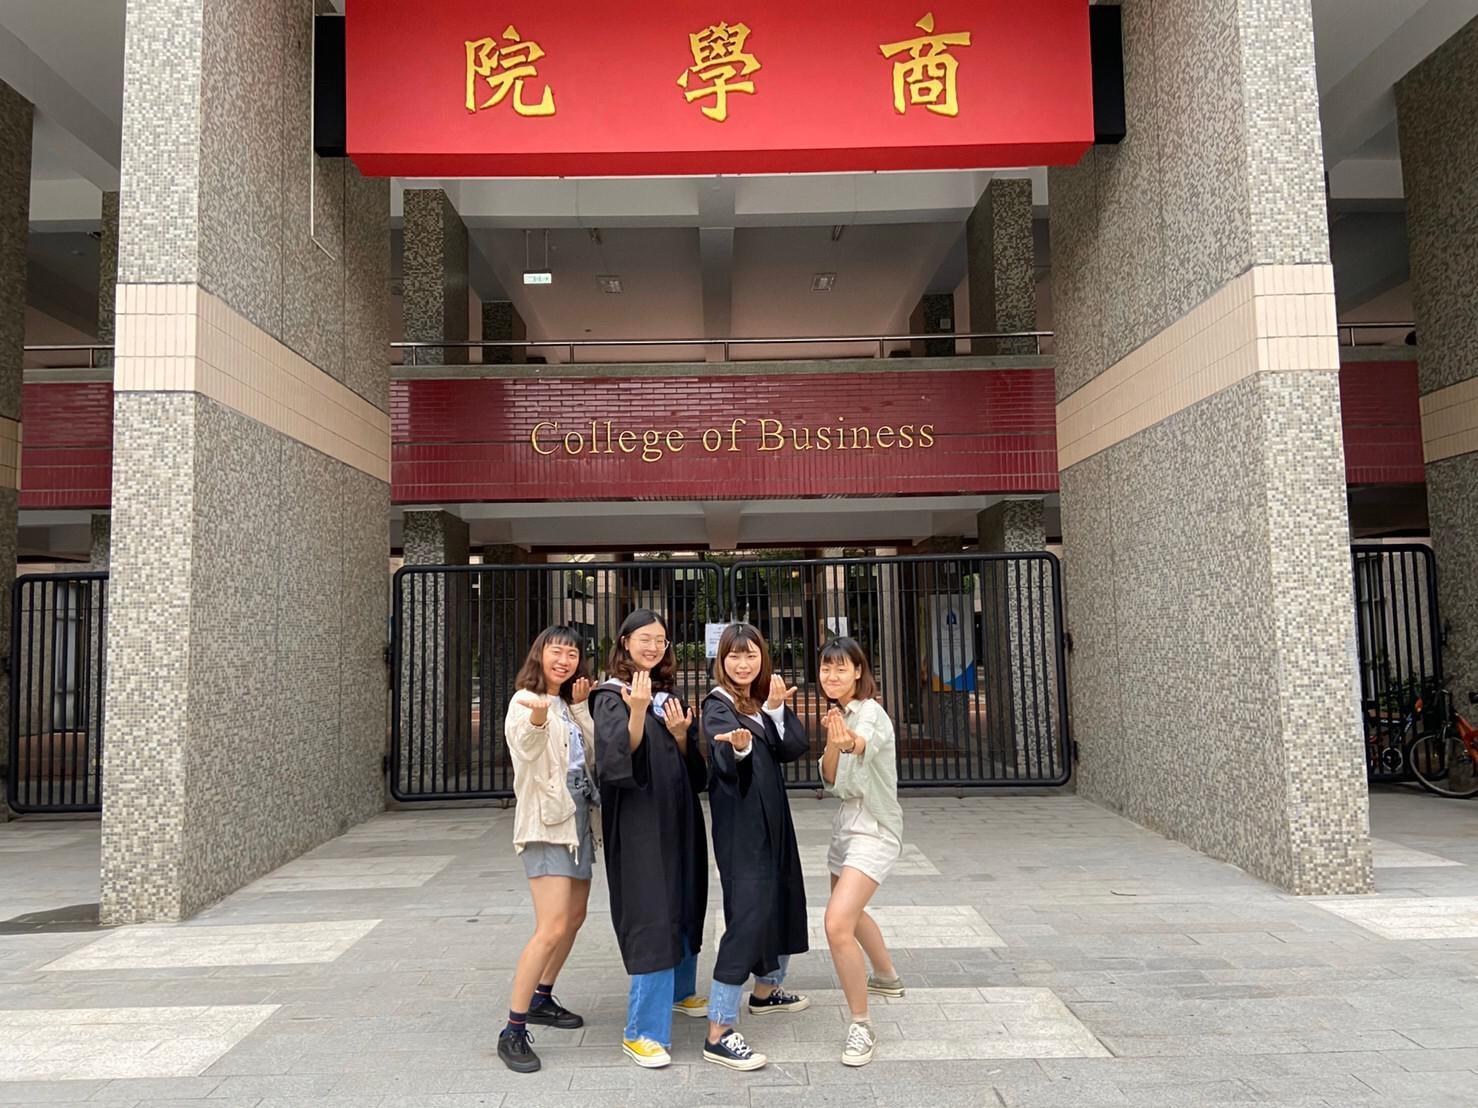people: (806, 623, 919, 1069), (621, 611, 704, 1050), (721, 630, 802, 1052), (515, 632, 573, 1059)
